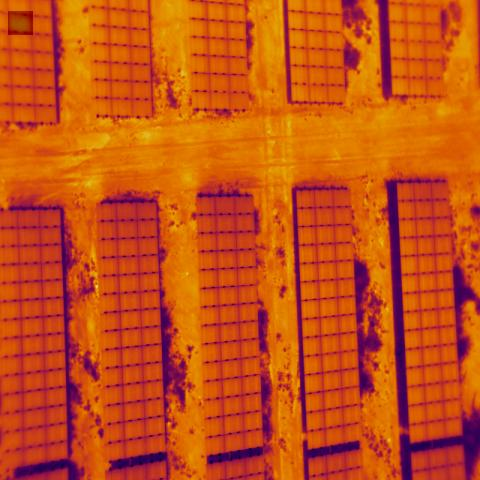fault: (8, 11, 33, 35)
